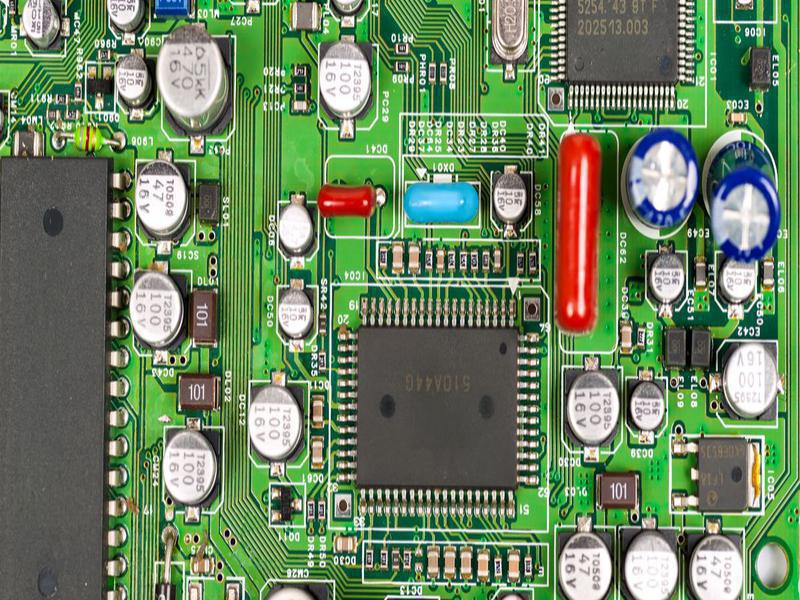SMD capacitor: (425, 548, 442, 580), (619, 321, 635, 353), (310, 438, 324, 471), (408, 245, 423, 274), (312, 398, 326, 429), (507, 549, 520, 580), (394, 246, 403, 270)
SMD resistor: (470, 248, 480, 275), (516, 251, 526, 274), (527, 255, 537, 277), (460, 250, 469, 269), (447, 250, 455, 271), (483, 250, 489, 272)
electrolytic capacitor: (626, 126, 699, 242), (711, 168, 785, 266)
